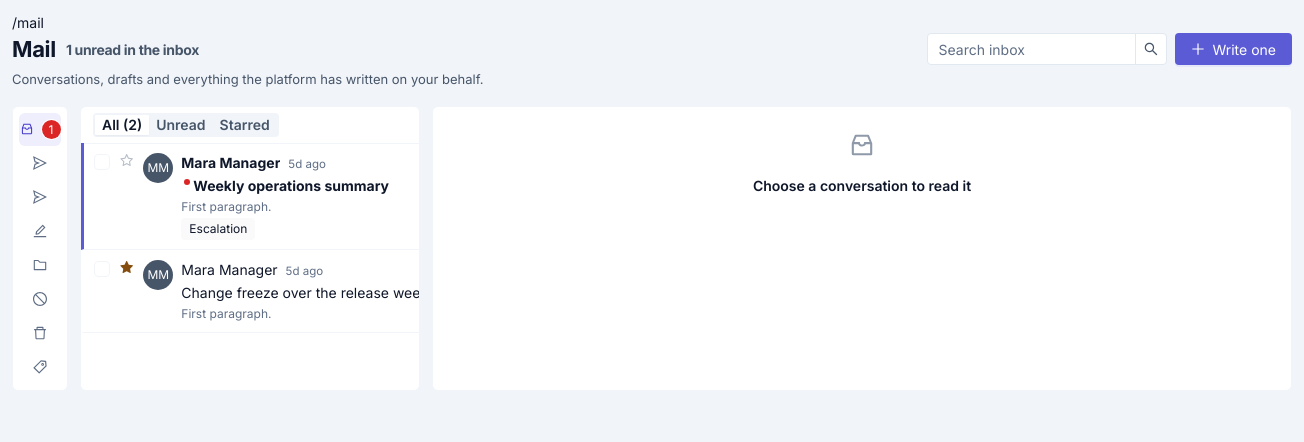
Scenario: the mailbox › updates the list when an unread thread is read
Check: the element with test id "thread-list" is shown, box [81,142,419,333]
Click the button with test id "open-thread-1" at (295, 196), box [181,152,409,240]
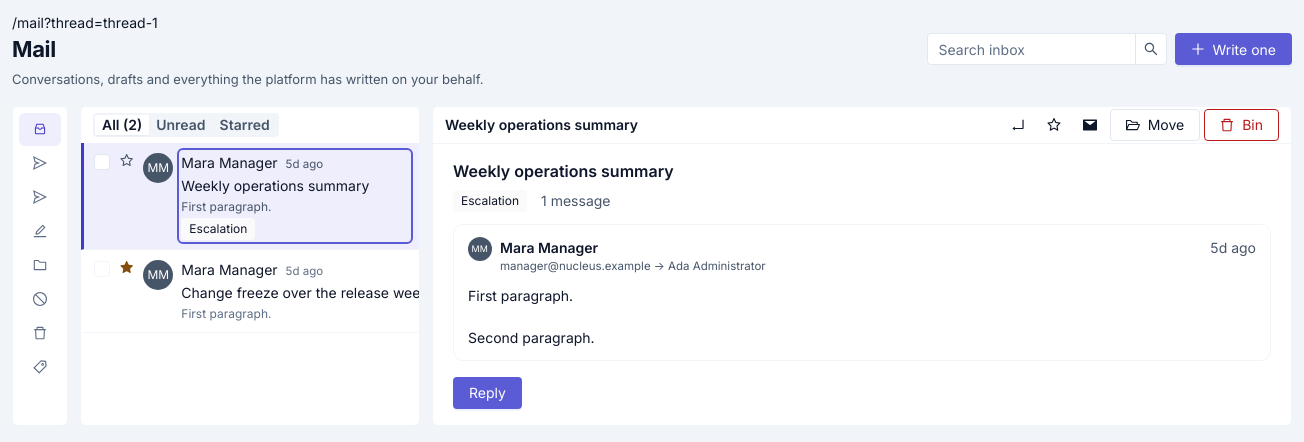
Check: the element with test id "thread-reader" is shown, box [433,142,1291,425]
